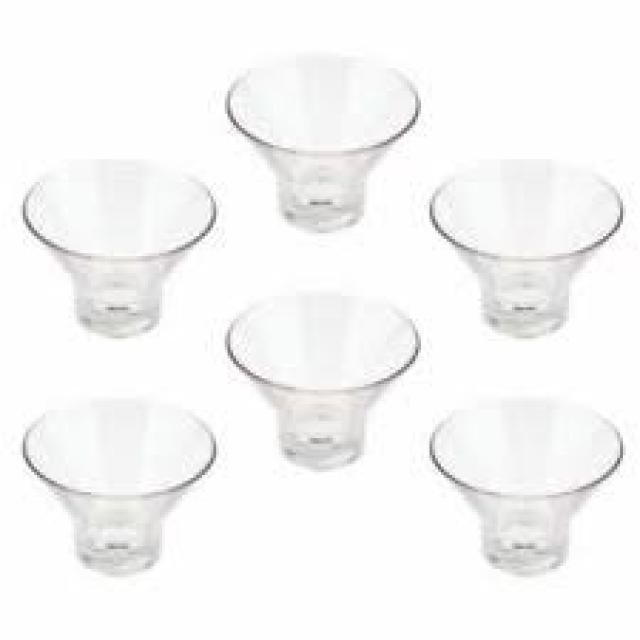glass: (427, 154, 620, 336), (17, 159, 213, 336), (20, 393, 213, 572), (427, 395, 620, 569), (222, 293, 415, 466), (225, 57, 415, 227)
